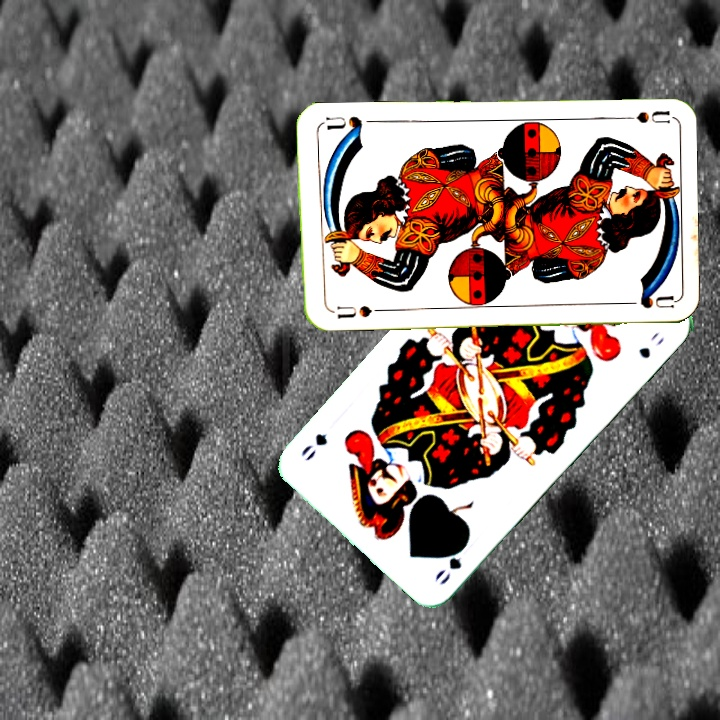GO: (430, 535, 472, 588)
SU: (611, 107, 670, 126), (333, 302, 374, 321)
